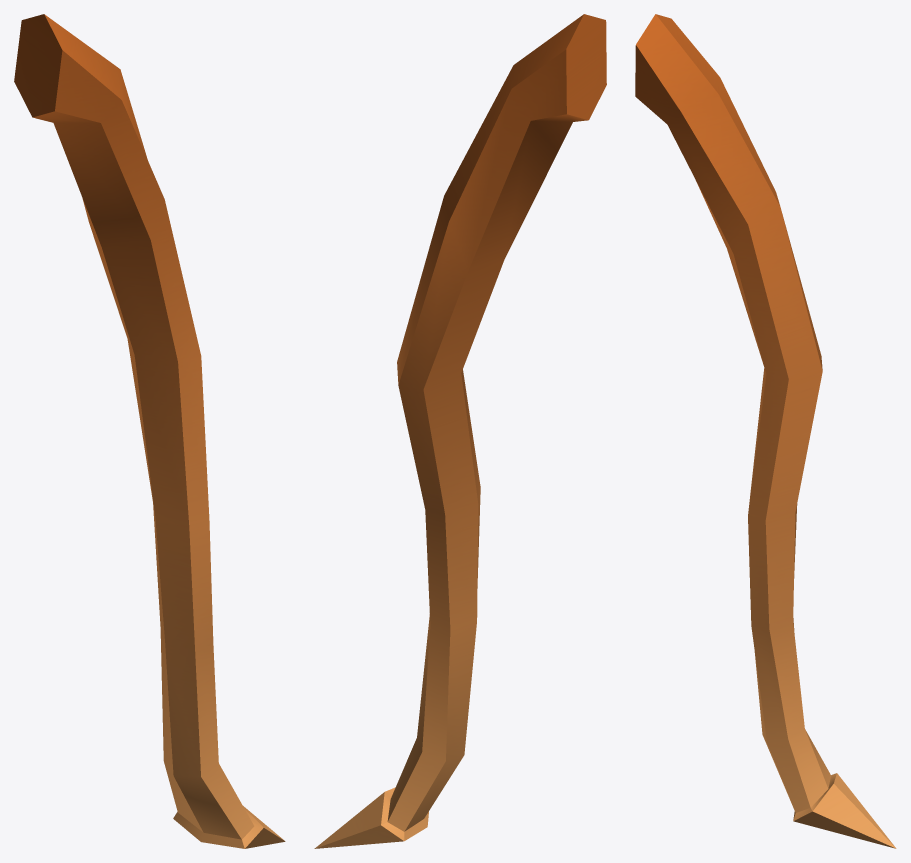
Rendered from SM_Lion_Tail.fbx.
The picture shows the model from 3 angles, left to right: view 1: azimuth 30°, elevation 25°; view 2: azimuth 150°, elevation 25°; view 3: azimuth 330°, elevation 25°; orthographic projection. The views are drawn at different scales.
Visible parts, largest first — view 1: SM_Lion_Tail; view 2: SM_Lion_Tail; view 3: SM_Lion_Tail.
Part boxes in pixels (bbox=[...]): SM_Lion_Tail: bbox=[14, 14, 285, 848]; SM_Lion_Tail: bbox=[314, 14, 606, 848]; SM_Lion_Tail: bbox=[635, 14, 896, 848].
Size of the model in its own units: 15.26 by 49.33 by 6.5.
